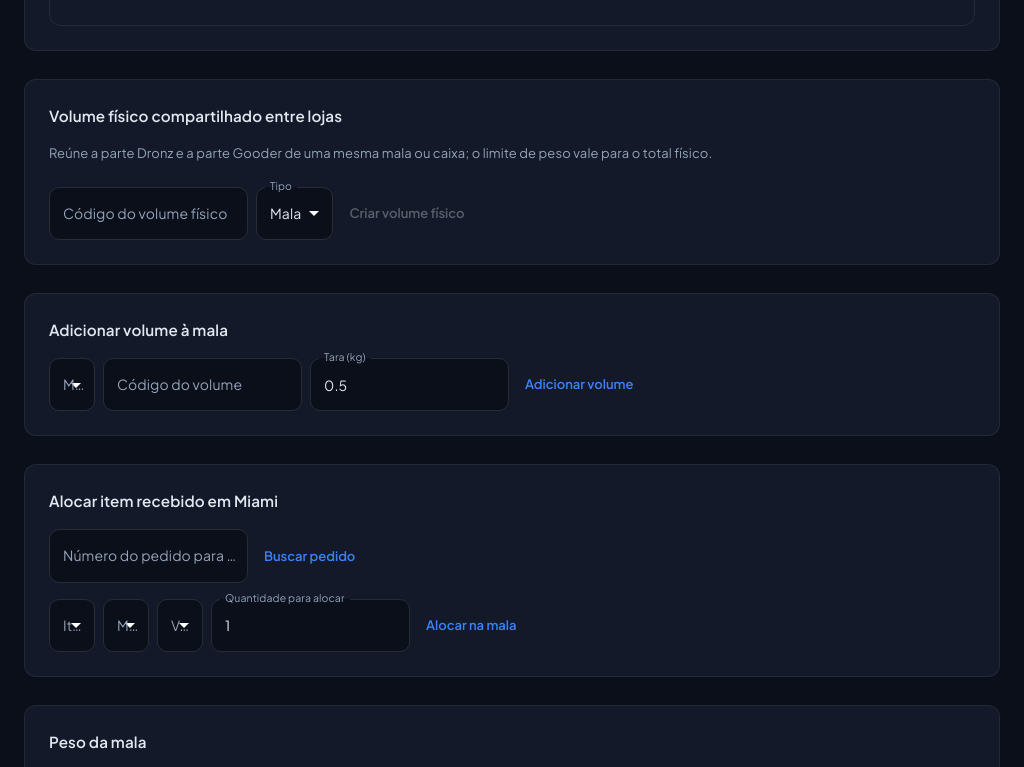
Scenario: Logística — alocação após Miami › adiciona volume com tara explícita e invalida a lista de malas
(page scrolled)
Click the dropdown named "Mala para volume" next to "Mala para volume" at (72, 385), box left=49, top=358, right=95, bottom=411
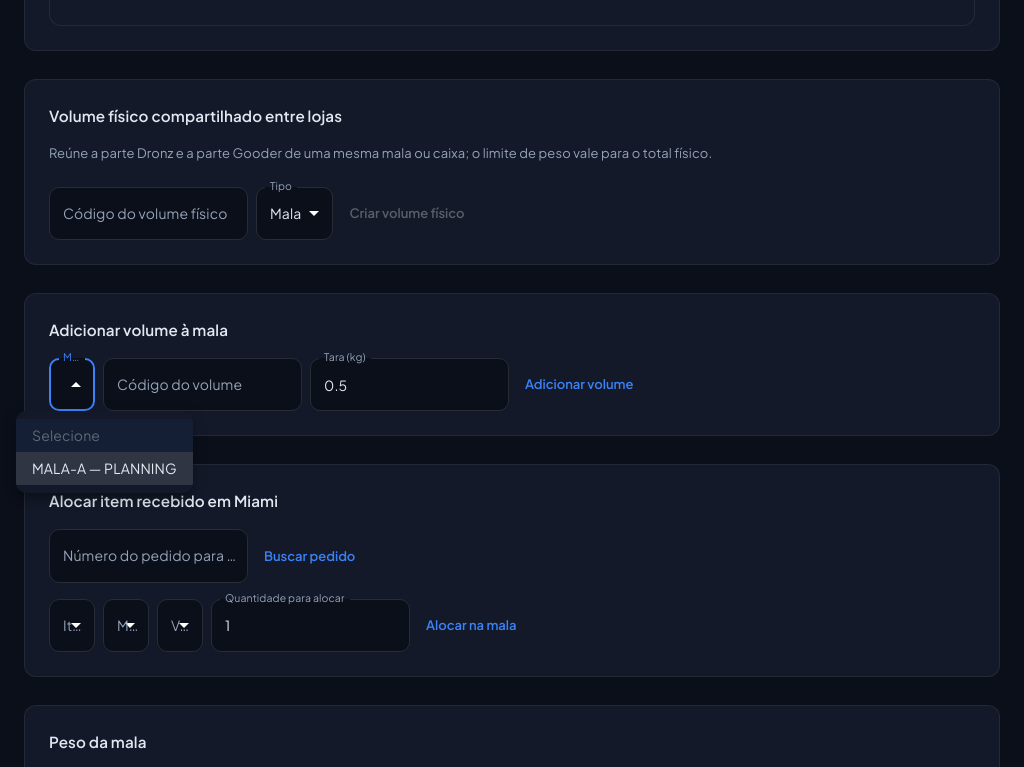
Click the option "MALA-A — PLANNING" at (104, 468), box left=16, top=452, right=193, bottom=485
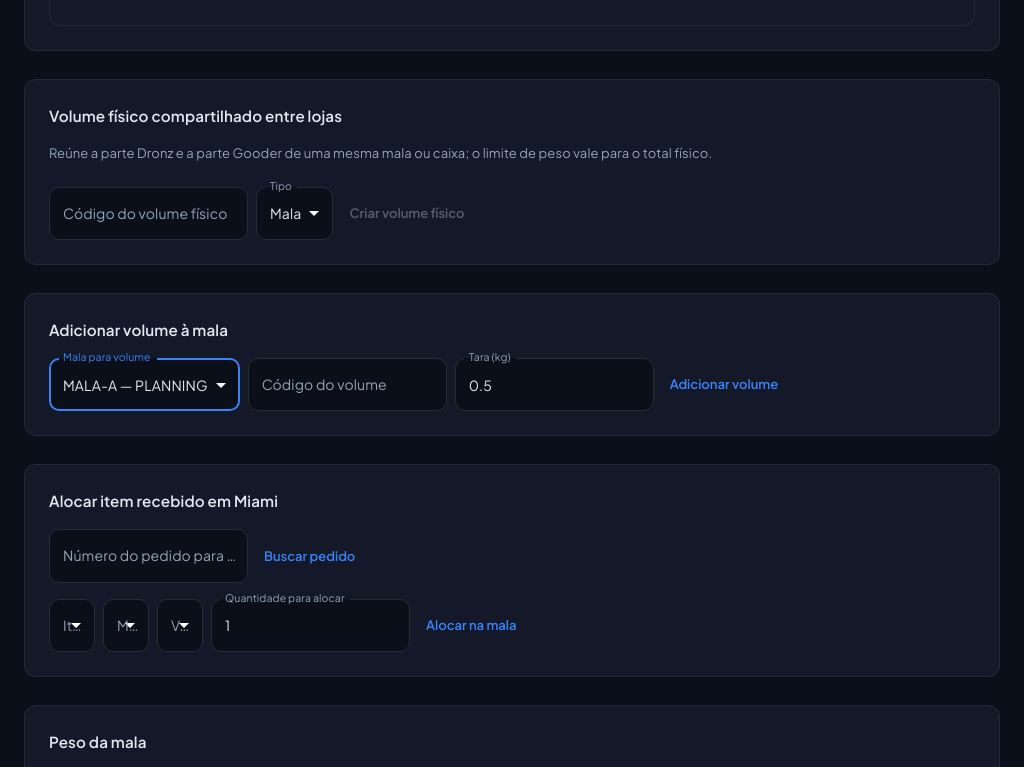
Type "VOLUME-B" into the field labelled "Código do volume" at (347, 385), box left=248, top=358, right=447, bottom=411
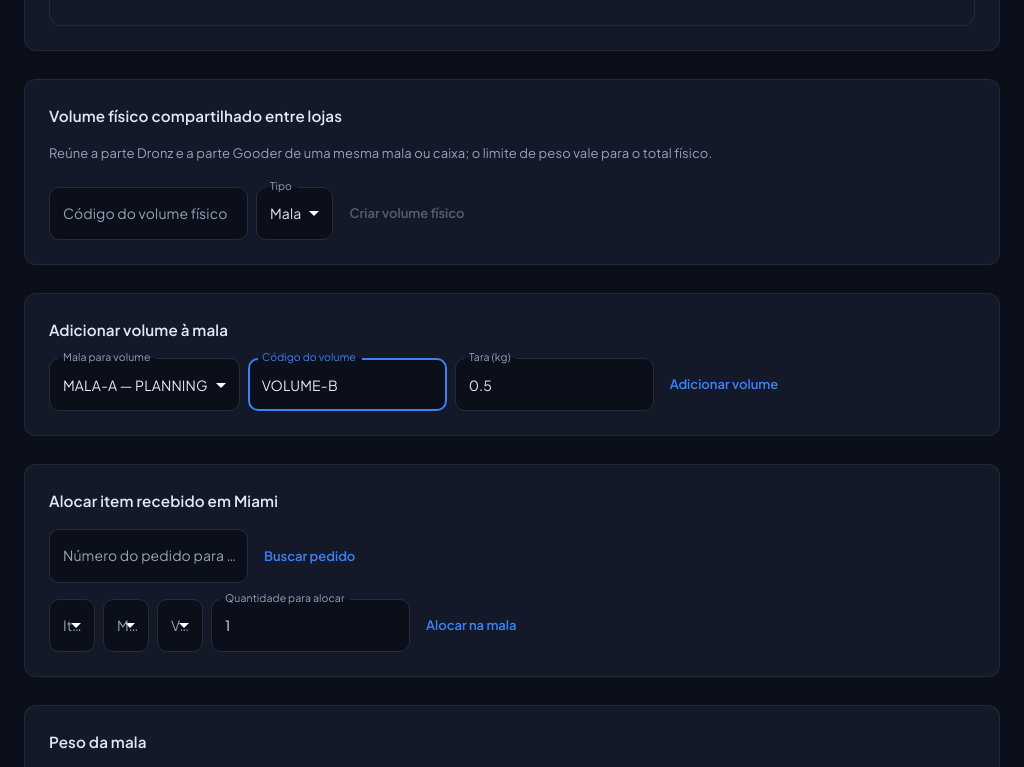
Replace the text in the number field labelled "Tara (kg)" with "0.8" at (554, 385), box left=455, top=358, right=654, bottom=411
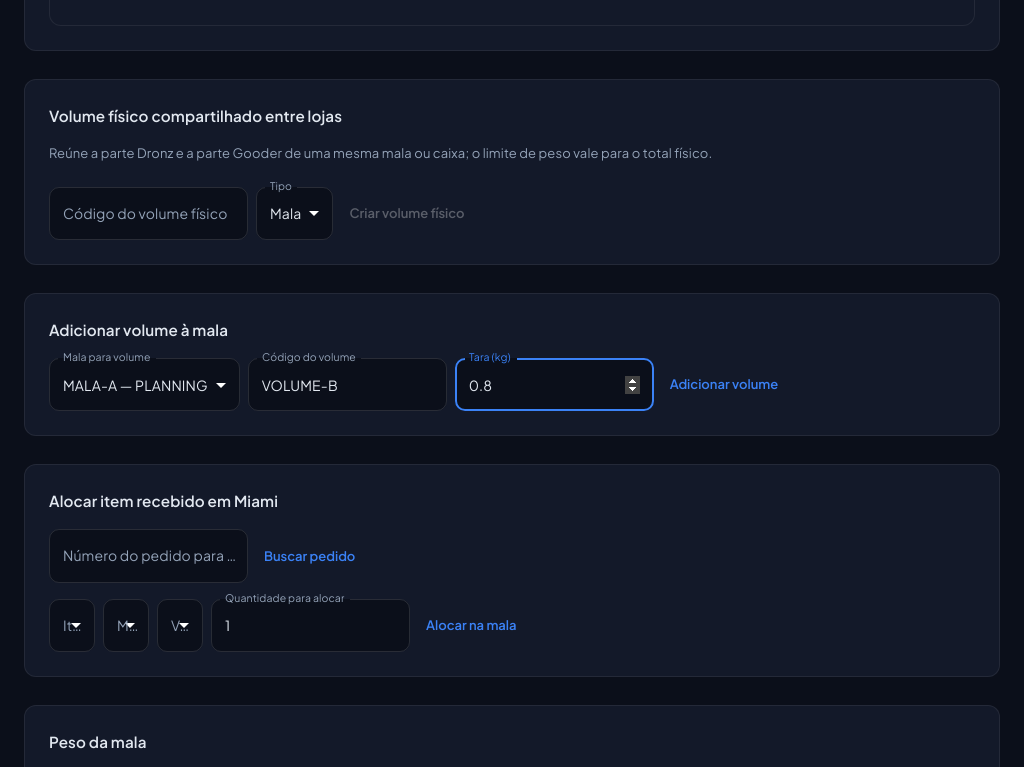
Click the button "Adicionar volume" at (724, 385), box left=662, top=358, right=786, bottom=411
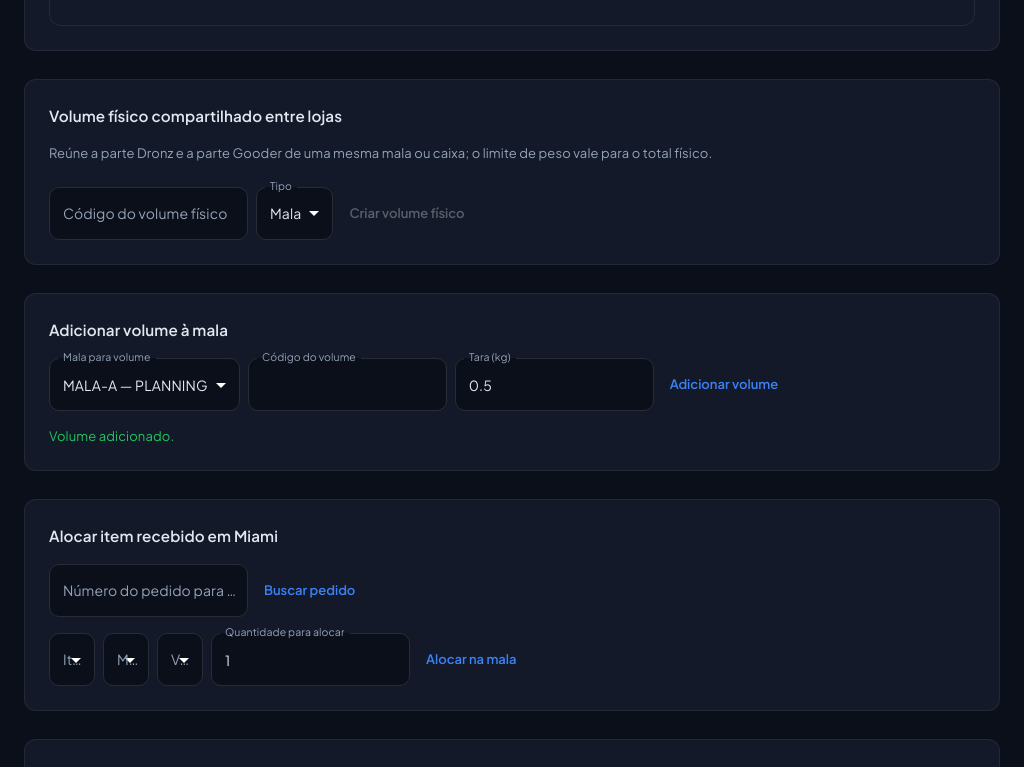
Result: the text "Volume adicionado." is shown at left=49, top=428, right=174, bottom=444
